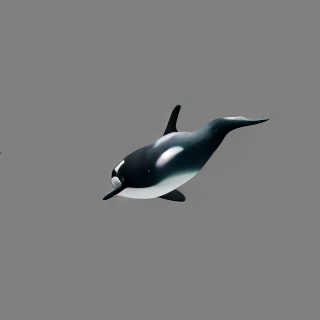Orca whale: (99, 103, 269, 204)
